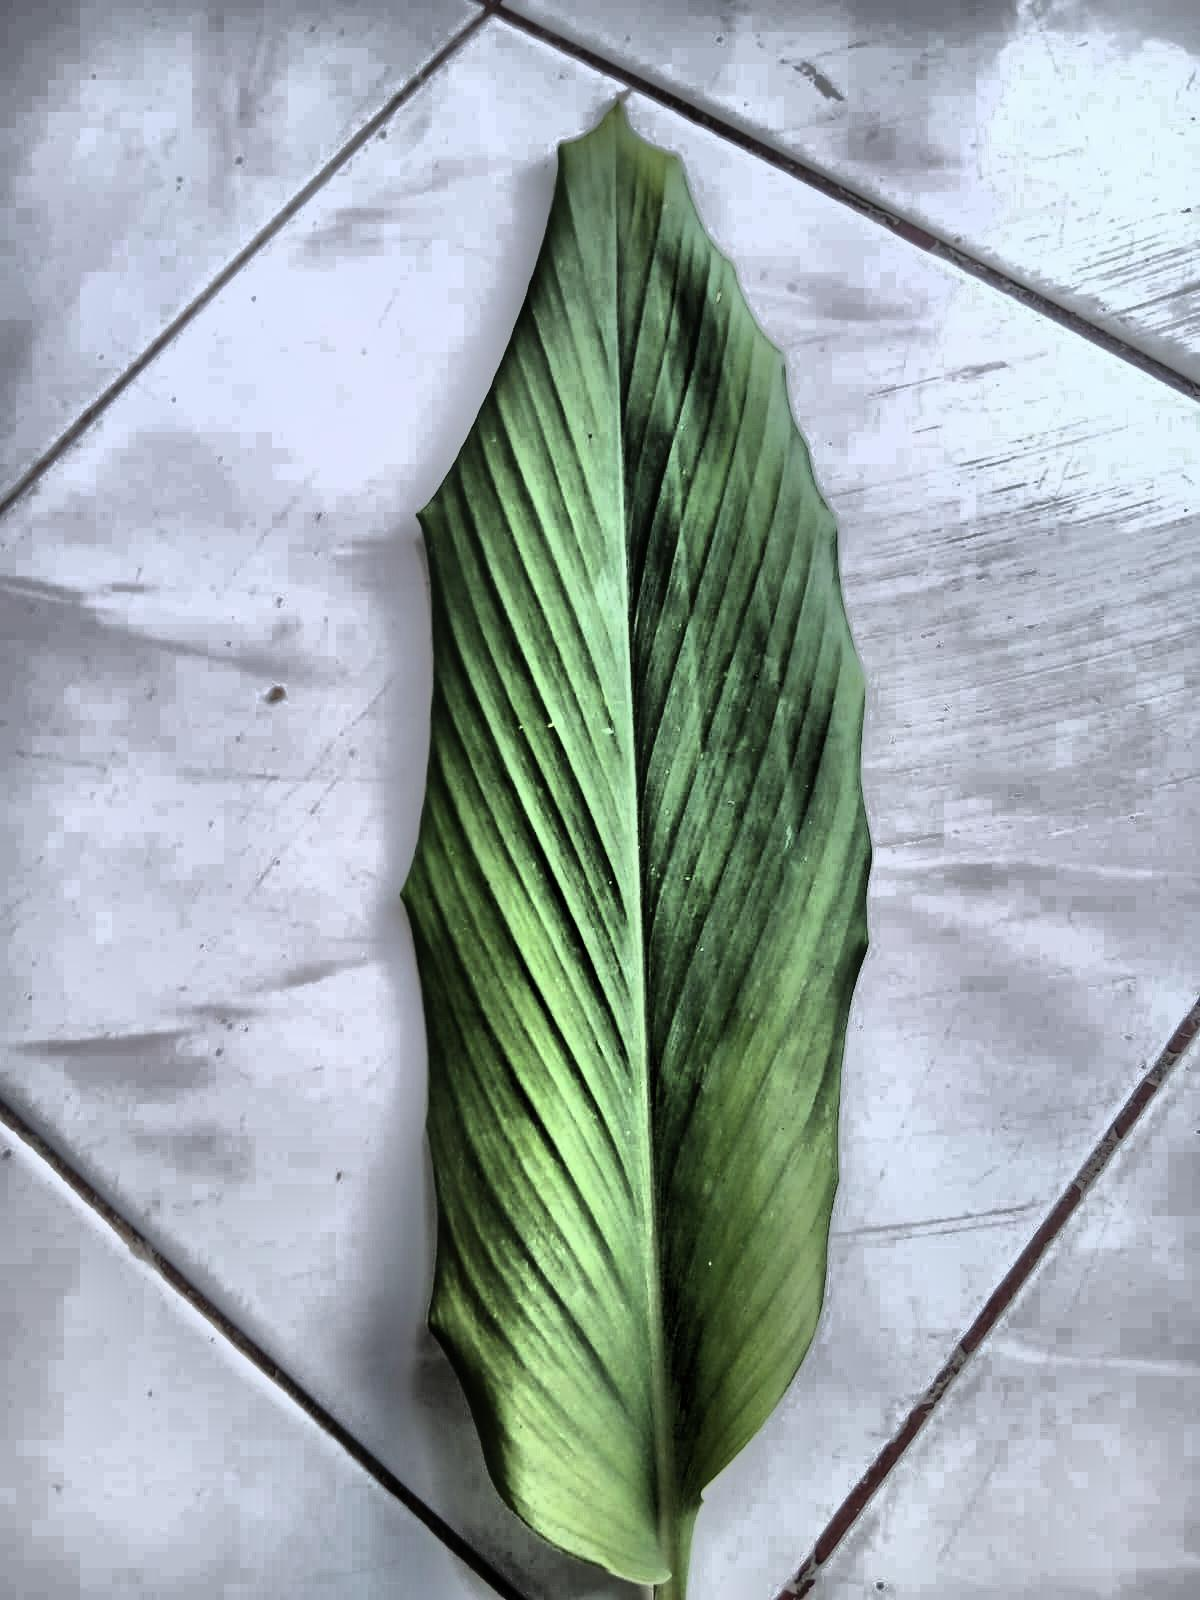daun kunyit: (402, 105, 871, 1599)
